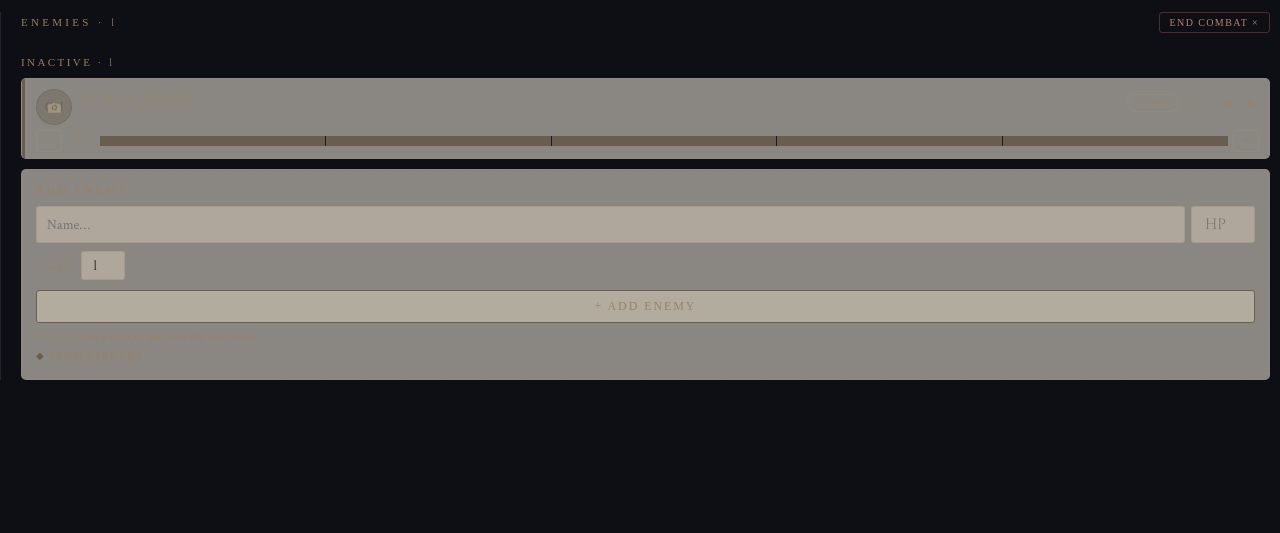
Test: NpcCombatSection Story 23 ability reference › coerces legacy string abilities into the new list display
// Inactive NPCs collapse by default (Story 29b) — expand to see the ability block.
Click the button named "Expand card": (1227, 103) [1215,91,1239,115]
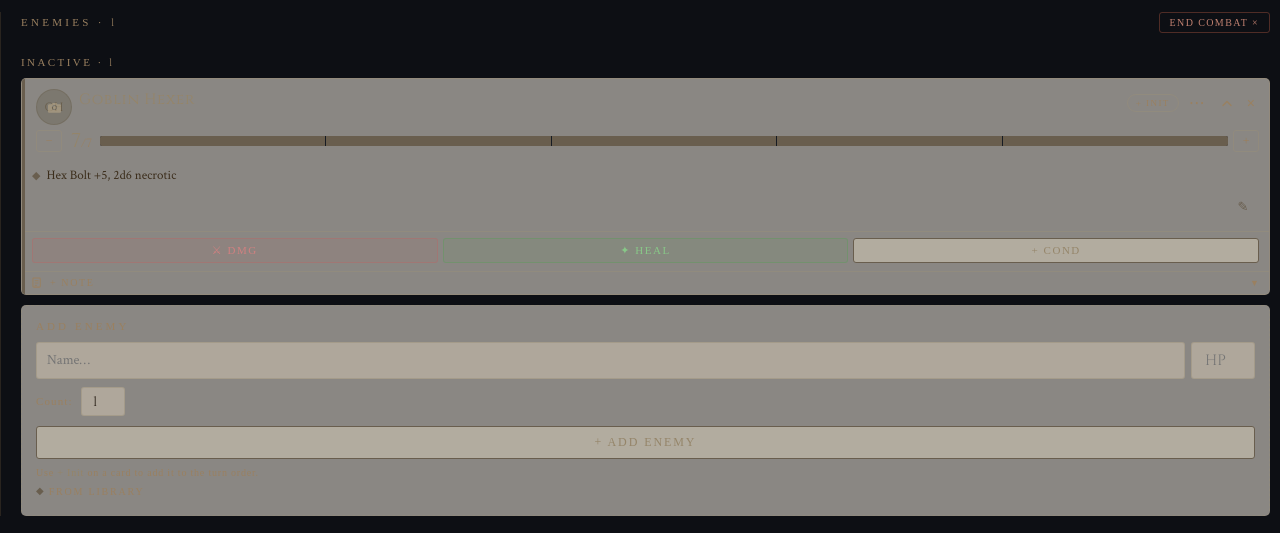
expect the text "Hex Bolt +5, 2d6 necrotic" is shown: met, box [46,167,176,184]
expect the button titled "Edit abilities" is shown: met, box [1227,191,1259,223]
